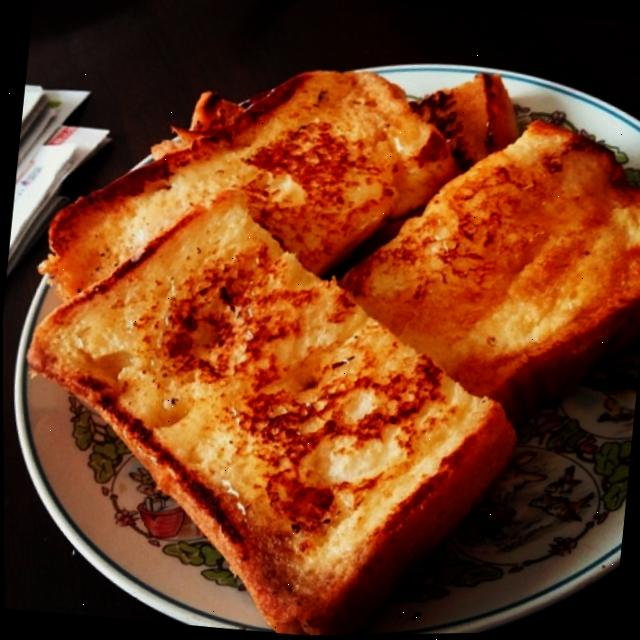面包点心: (0, 5, 640, 640)
